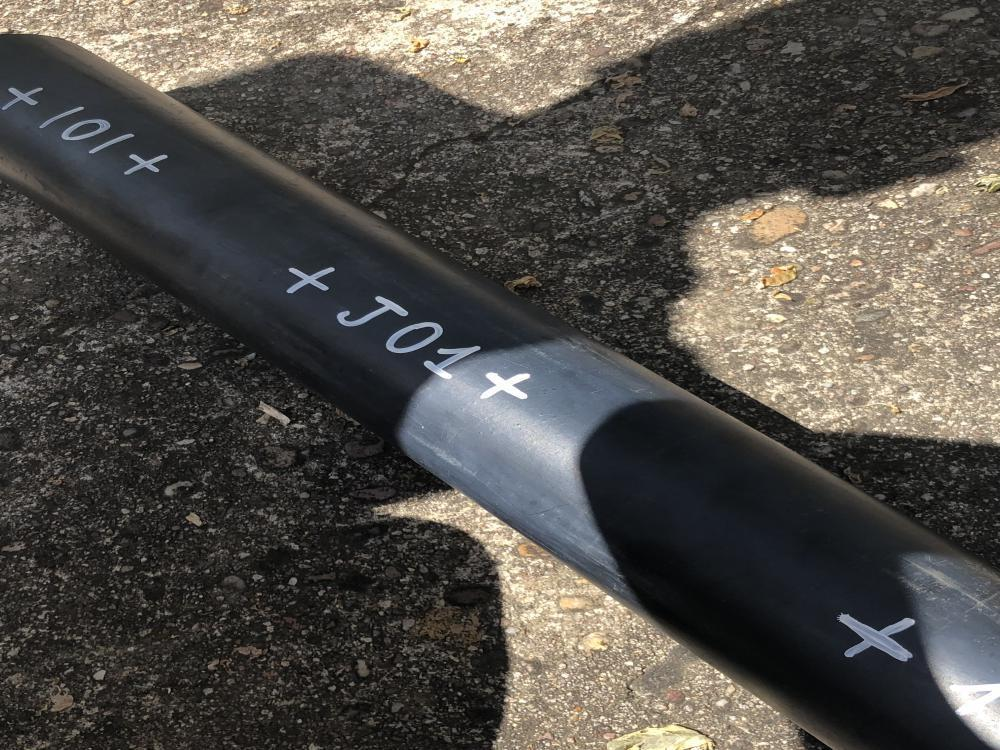+: (836, 612, 916, 662), (286, 266, 338, 294), (479, 372, 531, 400), (1, 86, 45, 110), (124, 153, 169, 175)
0: (384, 322, 444, 354), (60, 118, 111, 142)
1: (424, 345, 482, 380), (948, 682, 999, 717), (40, 106, 84, 130), (88, 133, 136, 155)
J: (336, 296, 410, 328)
